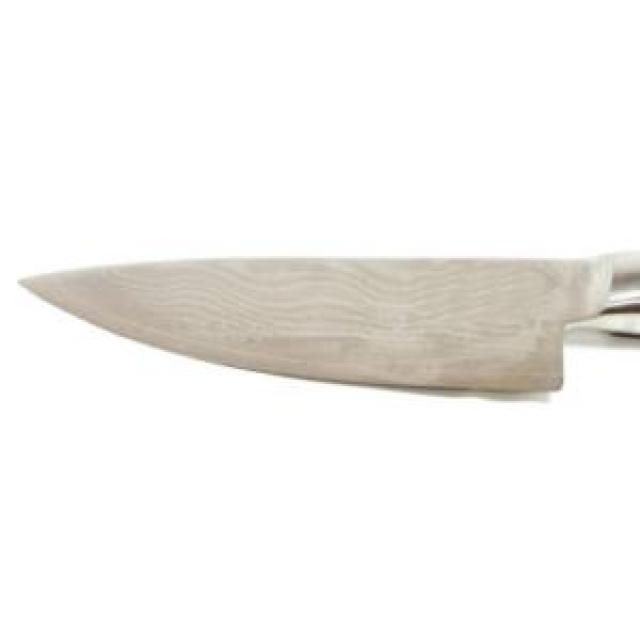knife: (15, 250, 638, 399)
